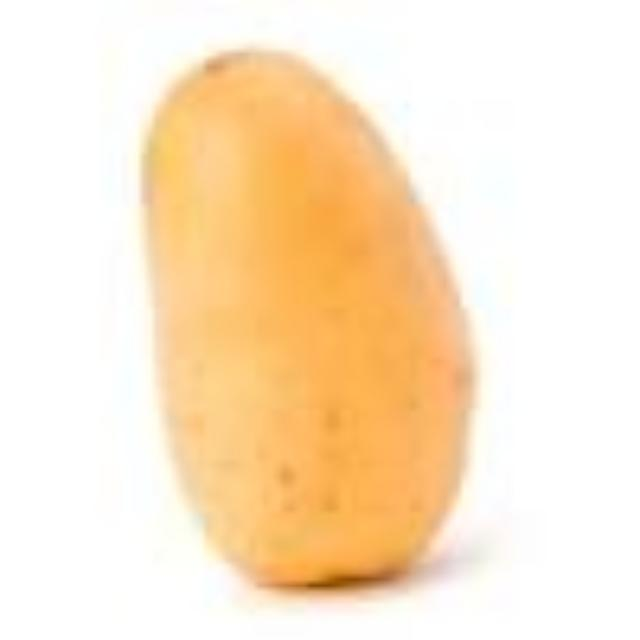Potato: (132, 37, 488, 596)
